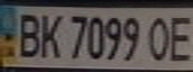0: (84, 12, 106, 61)
7: (63, 10, 87, 61)
9: (103, 12, 127, 62), (121, 12, 145, 62)
B: (12, 9, 45, 60)
E: (163, 11, 193, 63)
K: (36, 9, 66, 58)
O: (145, 12, 175, 62)
